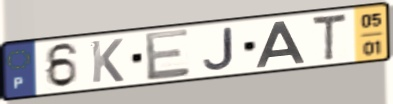6: (43, 42, 80, 90)
A: (253, 19, 308, 69)
E: (143, 26, 193, 83)
J: (201, 26, 237, 72)
K: (89, 37, 126, 85)
T: (310, 11, 349, 63)
